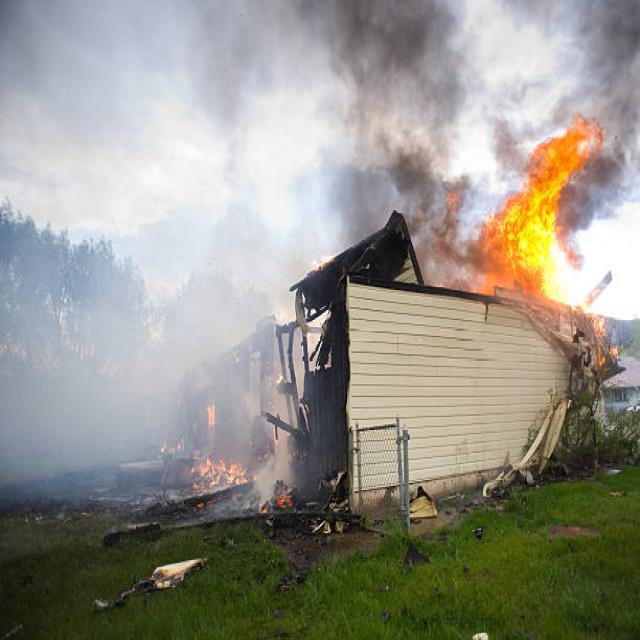Fire: (494, 111, 604, 283)
Smoke: (308, 0, 484, 207), (526, 4, 640, 176), (562, 171, 640, 283)
